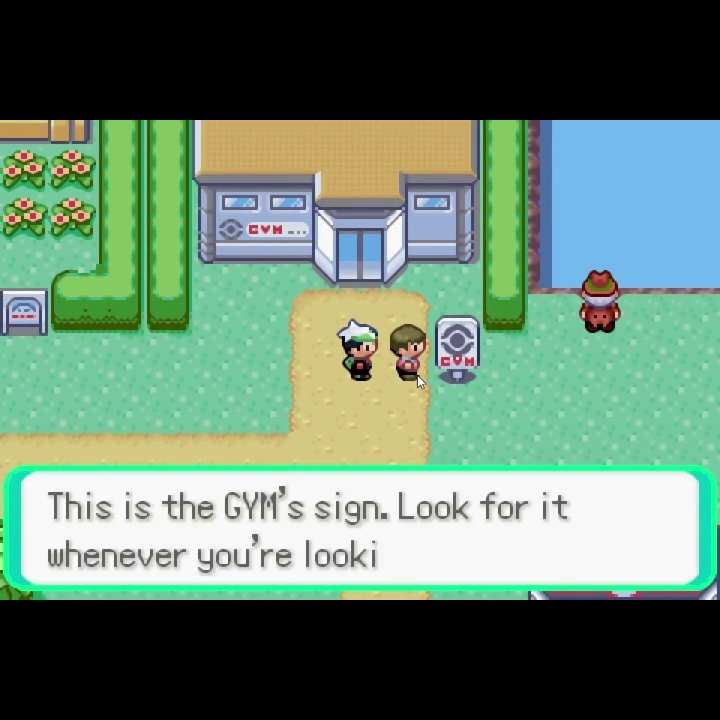agent: (331, 317, 382, 386)
gym: (193, 120, 481, 290)
npc: (574, 269, 622, 337), (385, 321, 429, 384)
